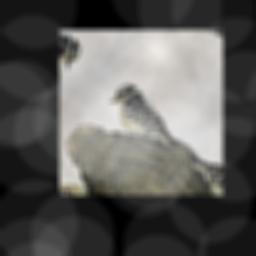Woodpecker: (92, 76, 196, 175)
